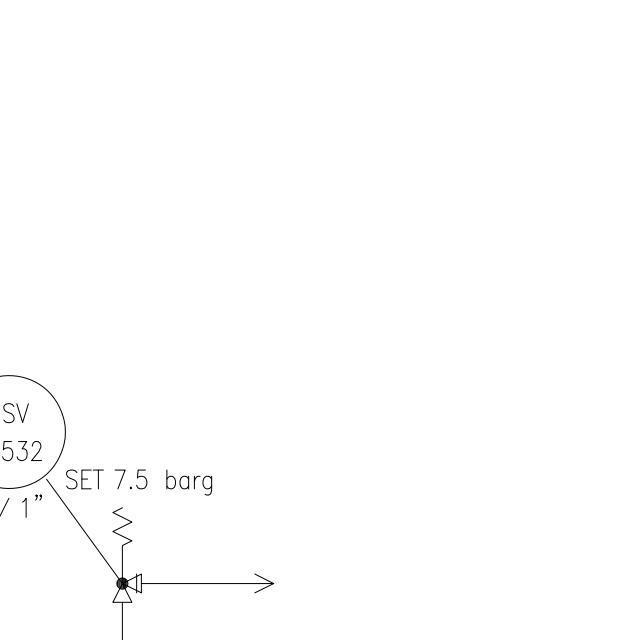RPV: (108, 499, 147, 614)
